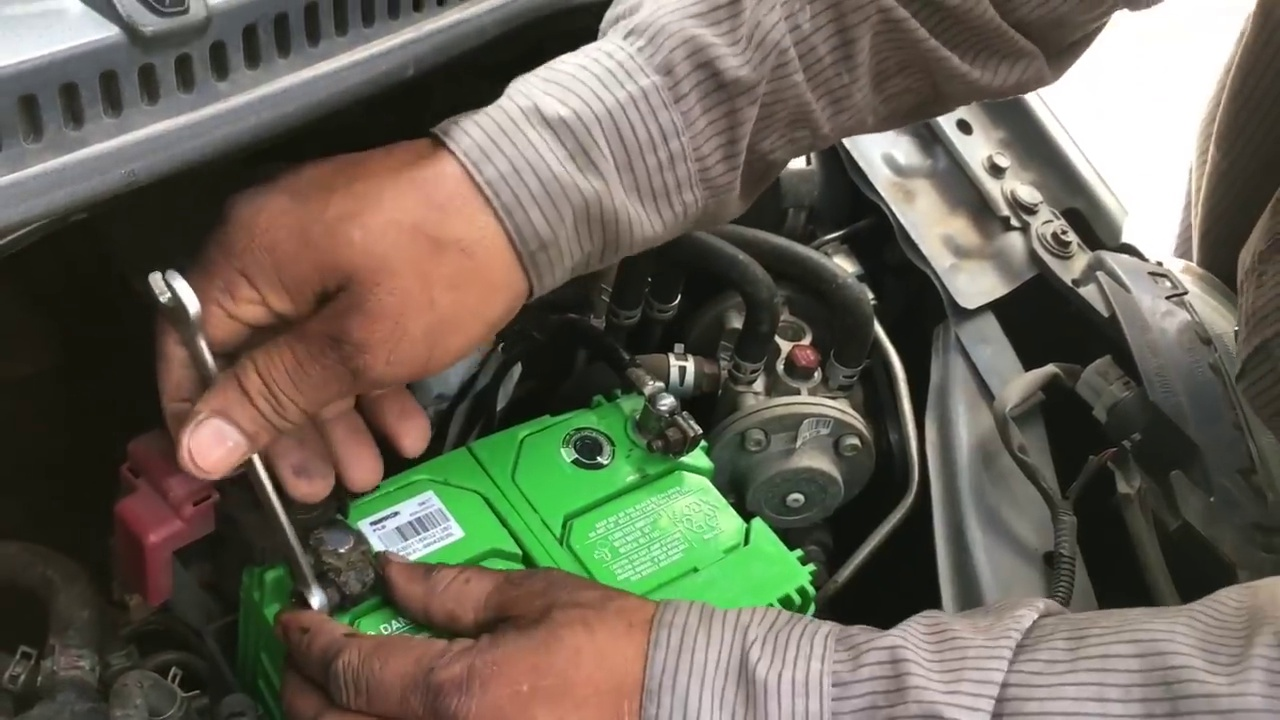battery: (270, 386, 810, 639)
neg_connected: (623, 330, 708, 460)
pos_touched: (228, 387, 430, 683)
